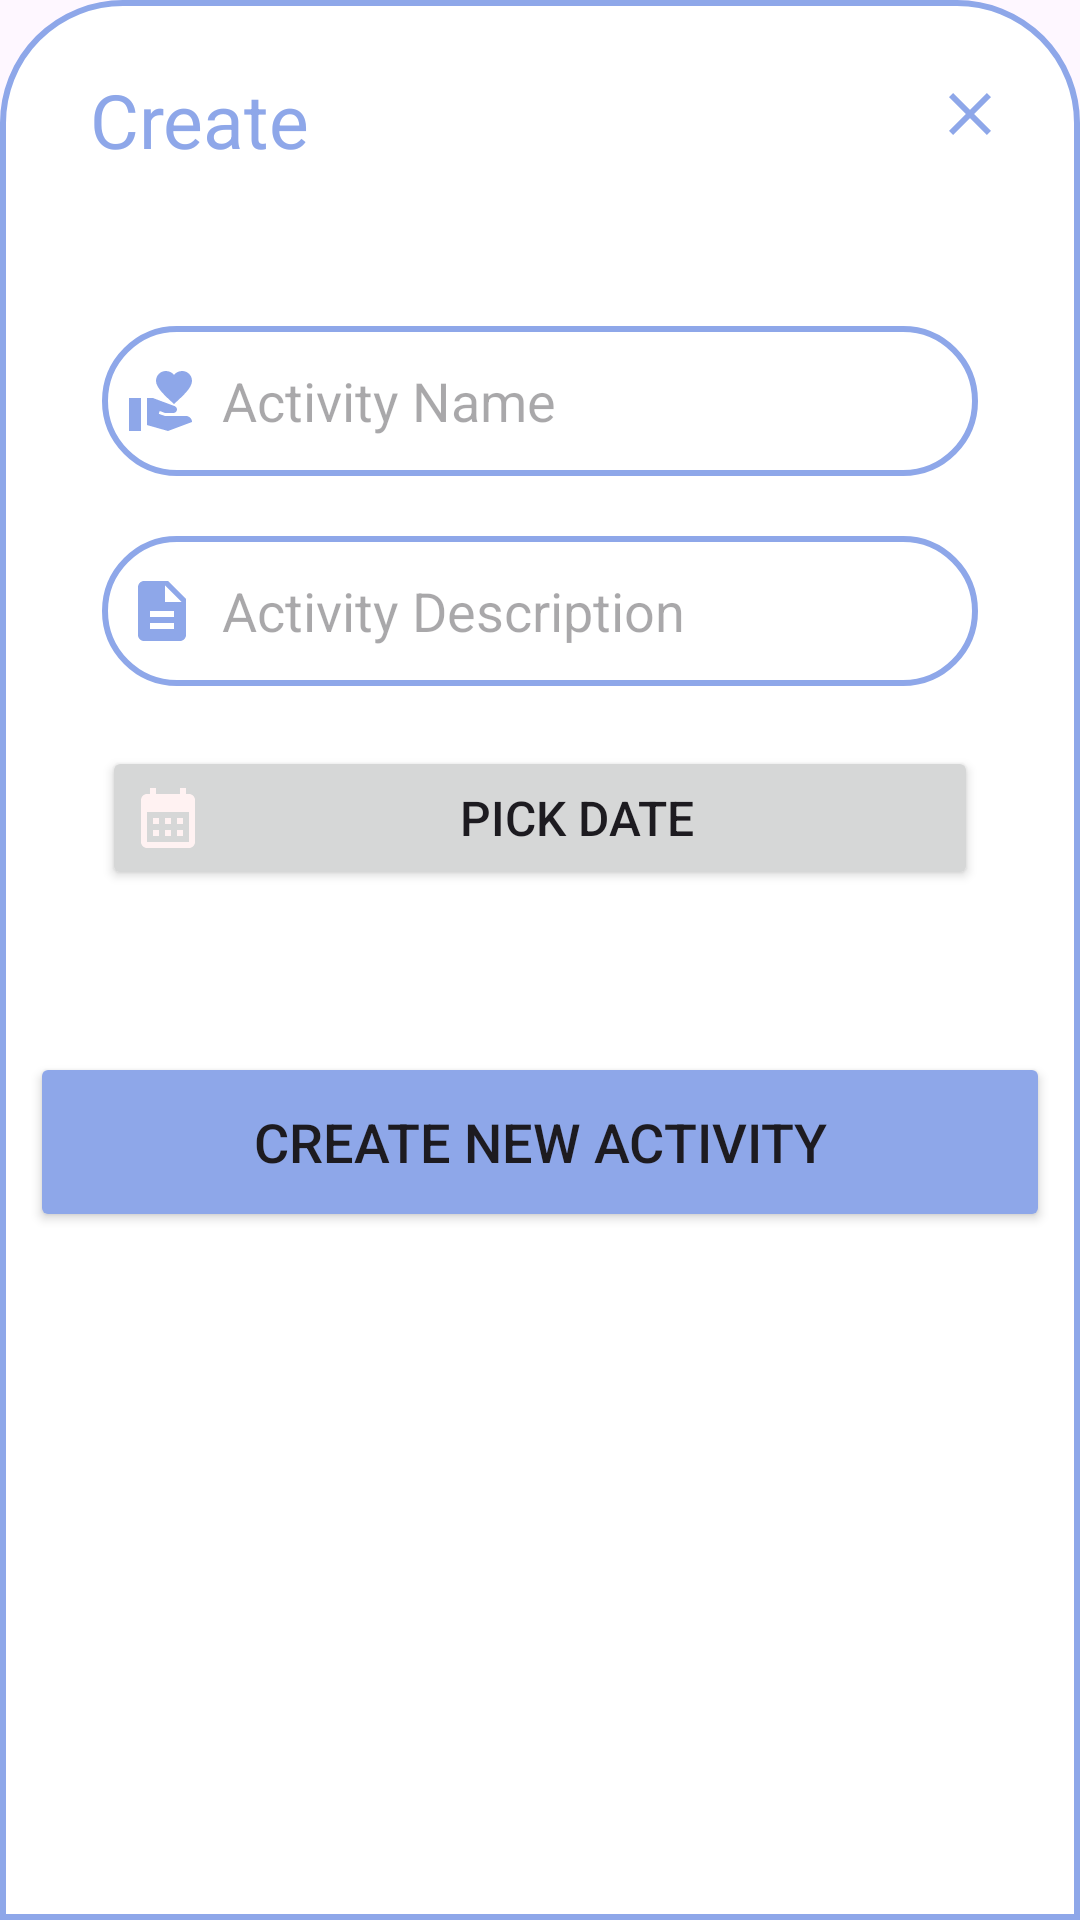

Icon bounding boxes for this 1080×1920 phone screenshot, format [x1=x1, y1=y1, x2=x2, y2=y2]:
clear: [x1=949, y1=93, x2=991, y2=135]
